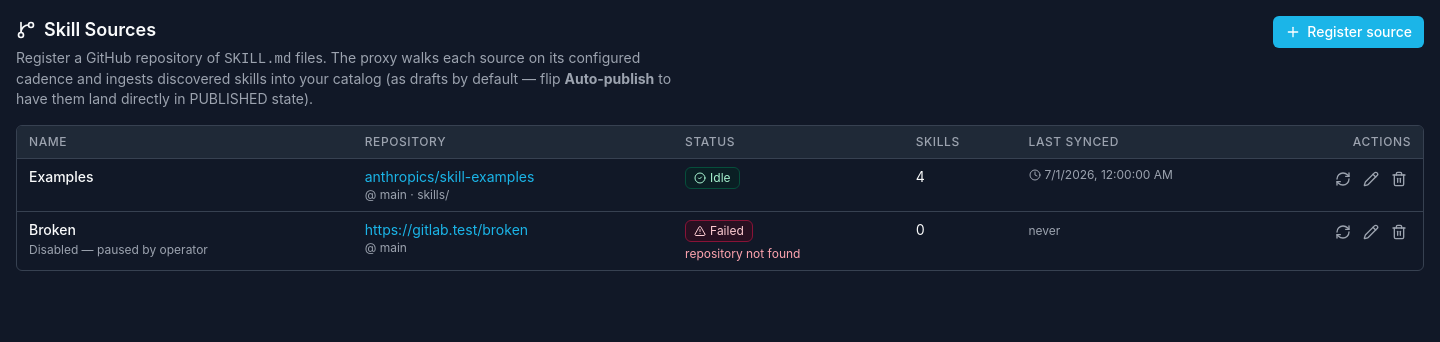
SkillSourcesTab › refresh › shows a failure
Check: the heading "Skill Sources" is shown, box top-left (16, 19), bottom-right (156, 40)
Click the button titled "Trigger immediate sync" in the row of "anthropics/skill-examples".
click(1343, 179)  # box top-left (1331, 167), bottom-right (1355, 191)
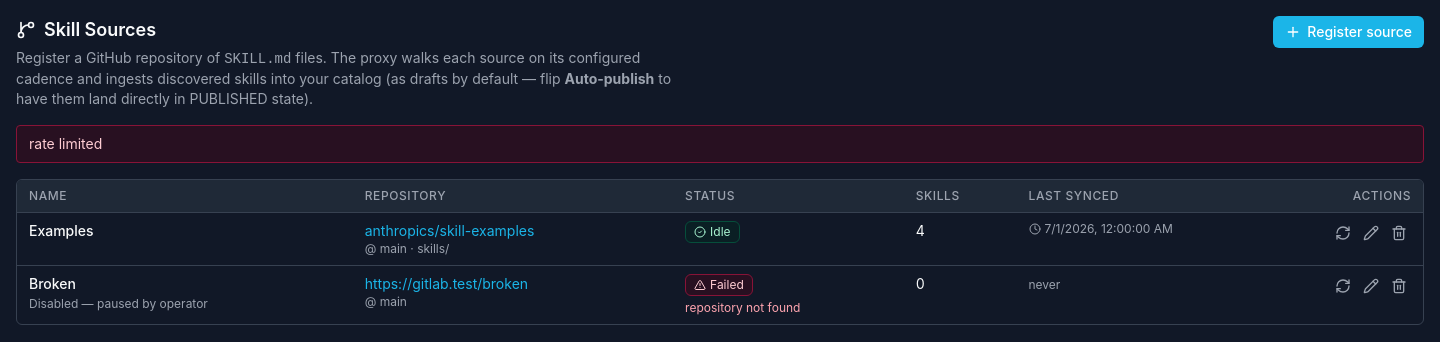
Check: the text "rate limited" is shown, box top-left (16, 125), bottom-right (1424, 163)
